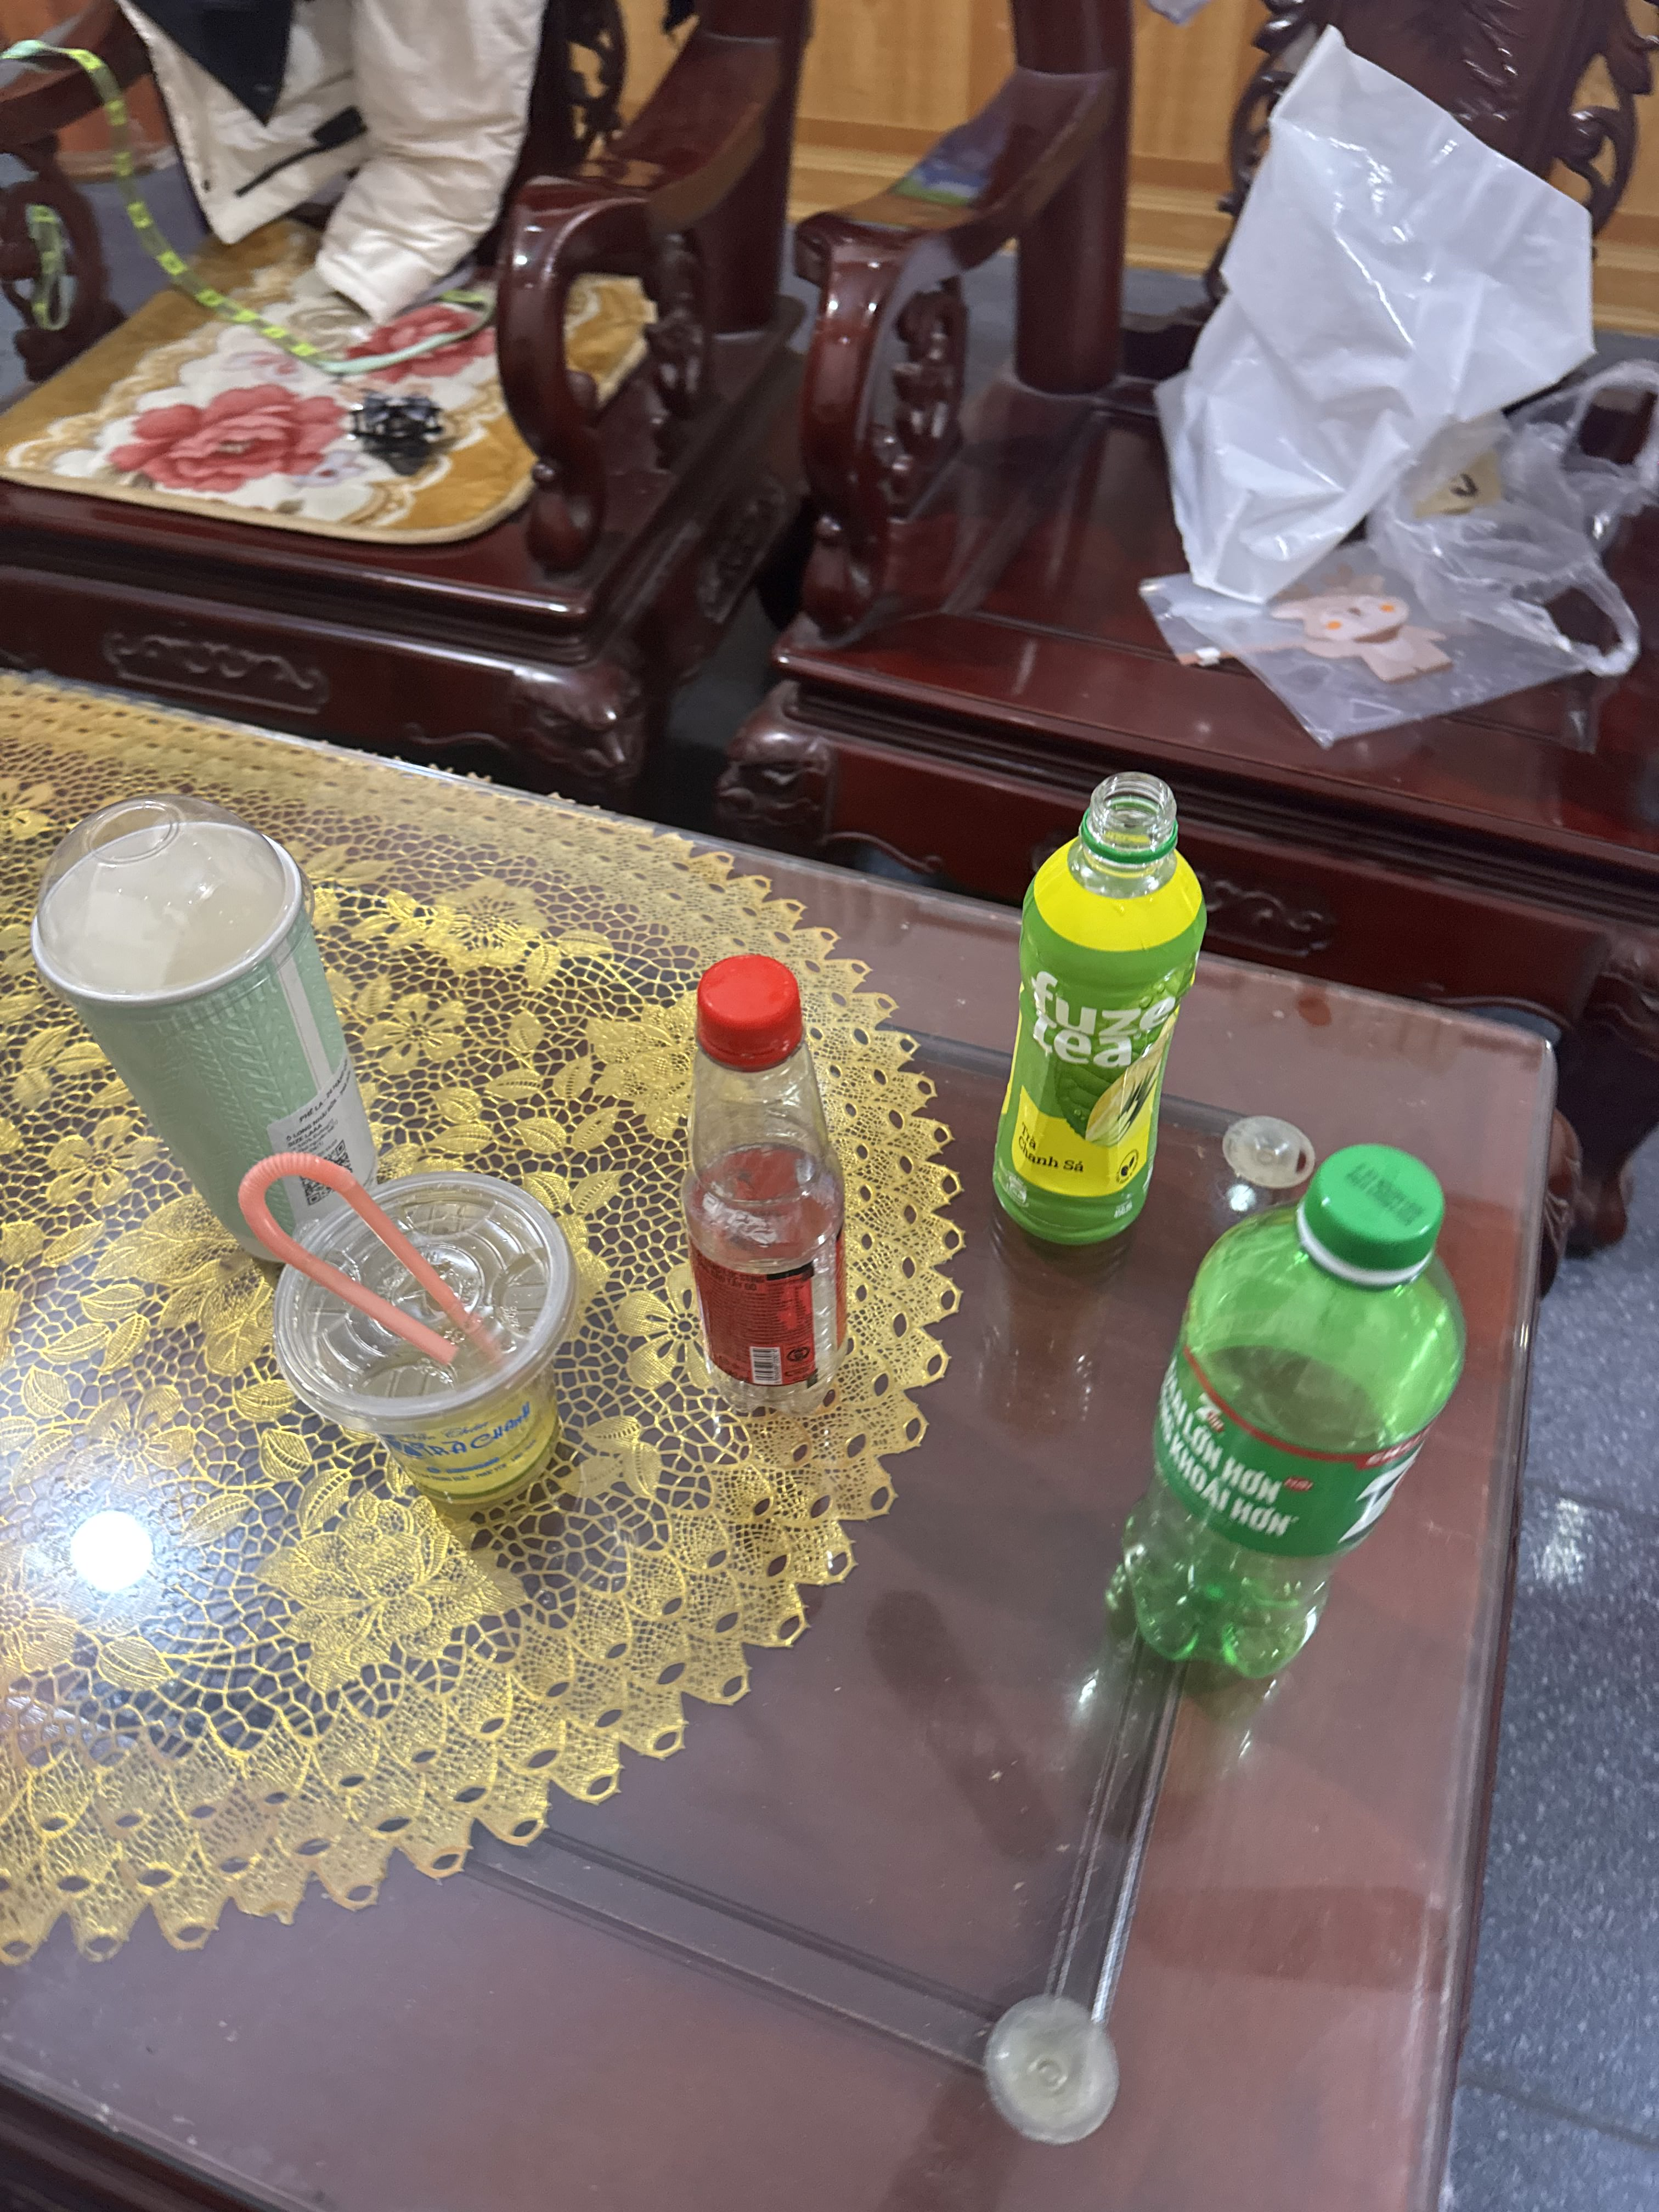bottle: (997, 1103, 1527, 1768), (913, 744, 1263, 1298), (645, 944, 887, 1458)
cup: (0, 744, 378, 1310), (242, 1136, 605, 1597)
